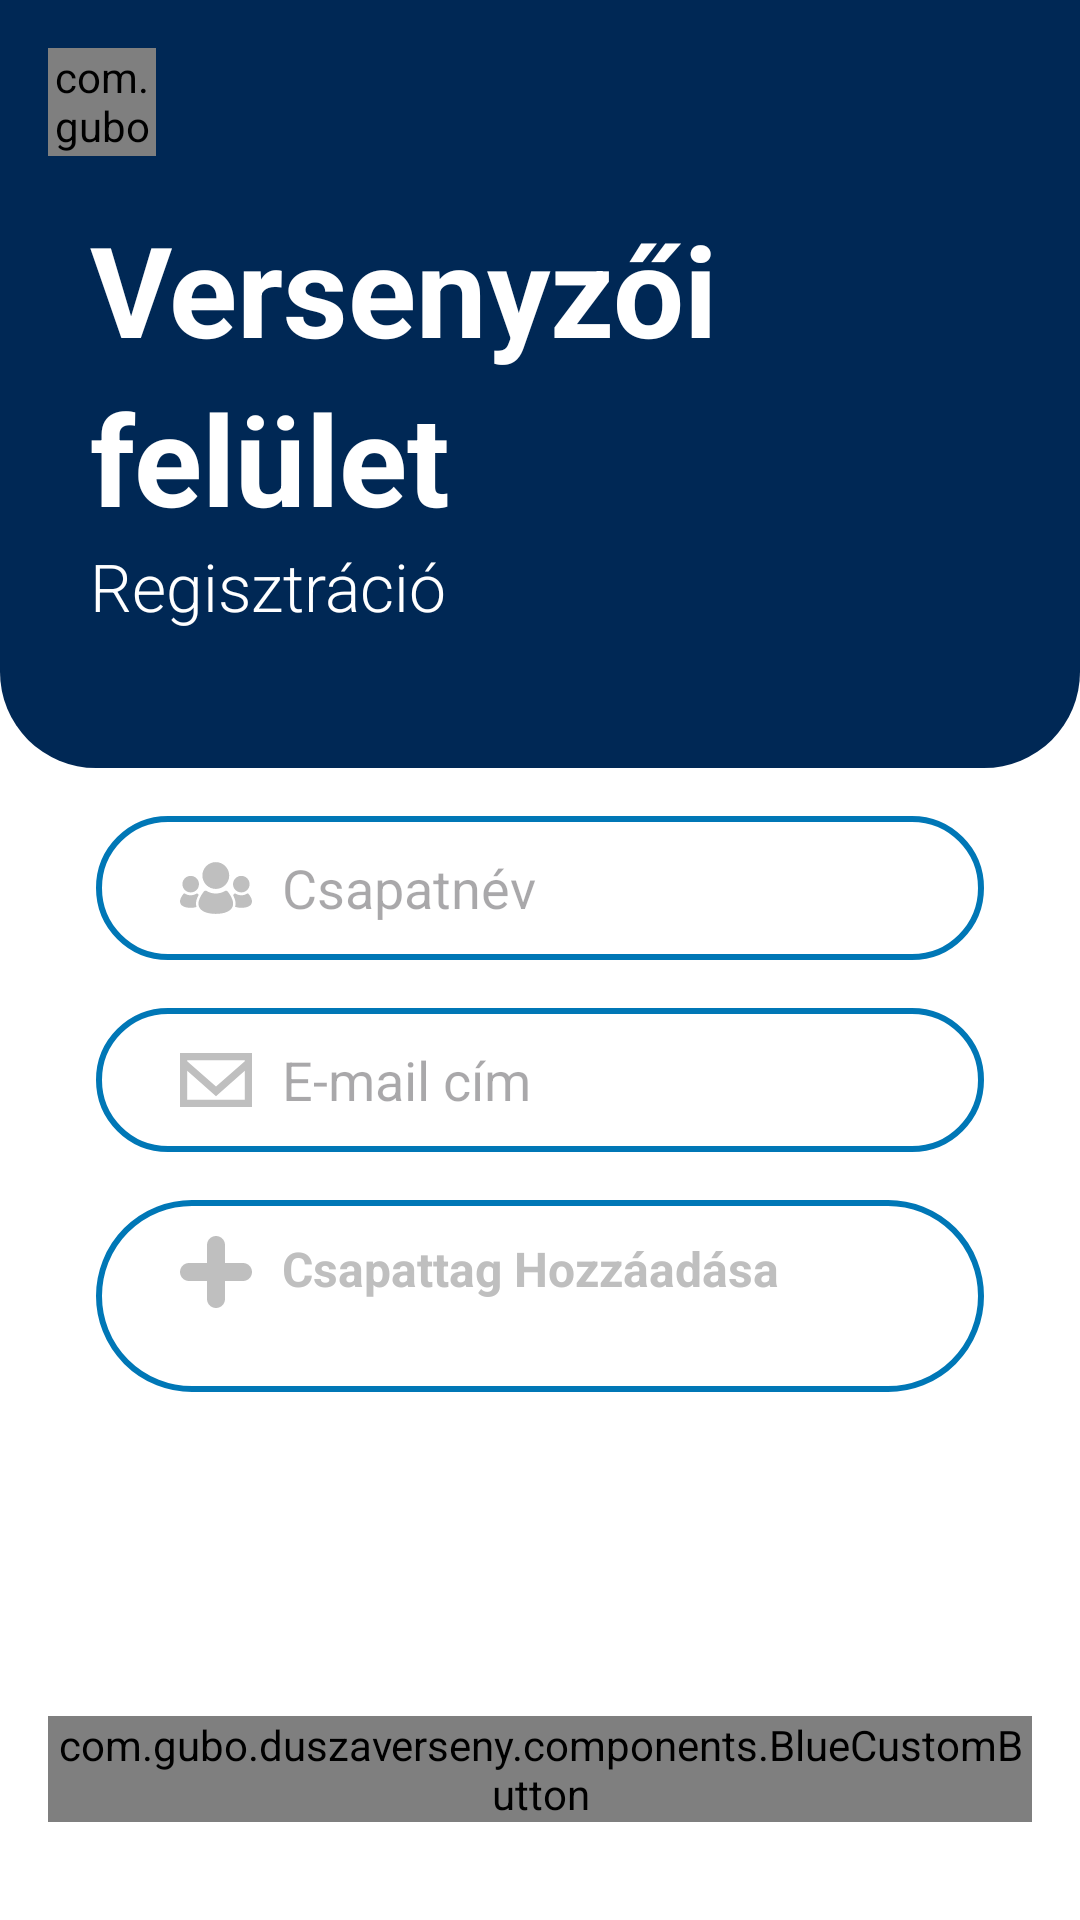

Where to tap for icons on this 1080×1920 app screen, as point (x, y):
plus: point (216, 1272)
team: point (216, 888)
